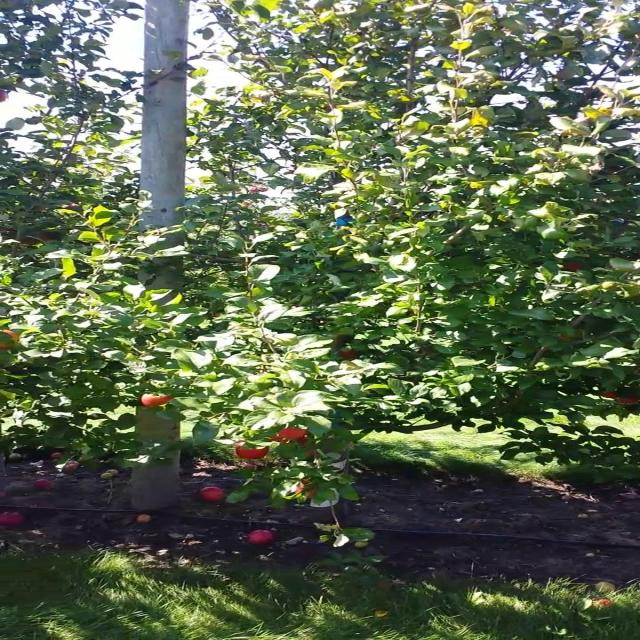apple: (234, 444, 270, 460), (141, 392, 174, 408), (298, 436, 320, 457), (298, 480, 320, 500), (276, 428, 309, 440), (6, 332, 21, 348), (269, 432, 288, 444), (561, 264, 583, 272), (618, 396, 638, 404), (340, 352, 359, 360), (269, 436, 286, 444), (604, 392, 619, 400)
